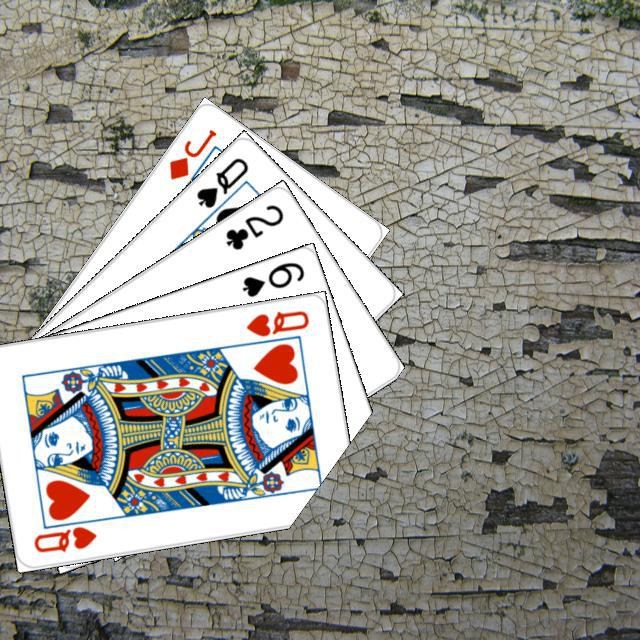2c: (220, 199, 286, 252)
6s: (237, 257, 306, 299)
Jd: (163, 124, 219, 182)
Qh: (29, 512, 104, 554), (241, 305, 311, 339)
Qs: (191, 152, 250, 210)
